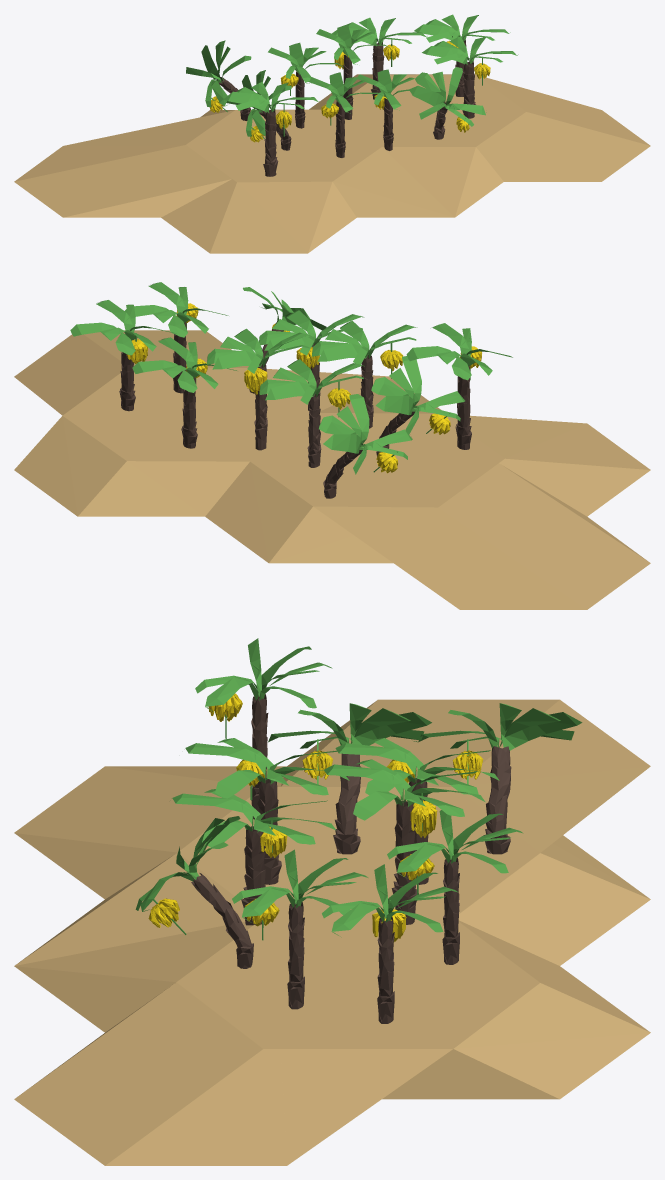
The model's file is insel6.fbx.
3 renders of one model, top to bottom at view 1: azimuth 30°, elevation 25°; view 2: azimuth 150°, elevation 25°; view 3: azimuth 270°, elevation 25°, orthographic. The views are drawn at different scales.
Parts seen in each view (by area): view 1: Landschaft, Blätter_6, Blätter_18, Blätter, Blätter_8, Blätter_10, Blätter_20, Blätter_14, Blätter_22, Blätter_4, Blätter_16, Stamm (+7 smaller); view 2: Landschaft, Blätter_18, Blätter_12, Blätter_20, Blätter_14, Blätter_22, Blätter, Blätter_10, Blätter_4, Blätter_16, Blätter_8, Stamm (+7 smaller); view 3: Landschaft, Blätter_18, Blätter_12, Blätter_22, Blätter_14, Blätter_10, Blätter, Blätter_4, Blätter_20, Blätter_16, Blätter_8, Stamm_18 (+11 smaller).
Part boxes in pixels (<box>): Landschaft: <box>14,74,650,253</box>; Blätter_6: <box>409,67,486,126</box>; Blätter_18: <box>186,40,251,107</box>; Blätter: <box>223,82,319,112</box>; Blätter_8: <box>422,36,518,64</box>; Blätter_10: <box>414,14,510,42</box>; Blätter_20: <box>268,42,343,83</box>; Blätter_14: <box>308,72,383,113</box>; Blätter_22: <box>316,24,390,64</box>; Blätter_4: <box>332,17,427,46</box>; Blätter_16: <box>357,69,414,110</box>; Stamm: <box>263,109,278,176</box>; Landschaft: <box>14,330,650,609</box>; Blätter_18: <box>319,394,412,474</box>; Blätter_12: <box>371,356,465,434</box>; Blätter_20: <box>259,359,364,404</box>; Blätter_14: <box>312,320,417,364</box>; Blätter_22: <box>207,328,310,373</box>; Blätter: <box>406,323,512,380</box>; Blätter_10: <box>70,300,176,355</box>; Blätter_4: <box>132,337,236,392</box>; Blätter_16: <box>259,310,364,355</box>; Blätter_8: <box>125,282,228,337</box>; Stamm: <box>455,365,471,449</box>; Landschaft: <box>14,699,650,1165</box>; Blätter_18: <box>413,703,582,750</box>; Blätter_12: <box>268,703,431,748</box>; Blätter_22: <box>324,759,485,820</box>; Blätter_14: <box>185,738,349,798</box>; Blätter_10: <box>322,864,457,937</box>; Blätter: <box>195,638,332,712</box>; Blätter_4: <box>387,810,523,877</box>; Blätter_20: <box>335,738,499,795</box>; Blätter_16: <box>172,789,336,847</box>; Blätter_8: <box>232,849,368,922</box>; Stamm_18: <box>483,746,511,854</box>.
Bounding box in the file's own units: 10628 × 2053 × 6136.
4 materials, 3 textured.
